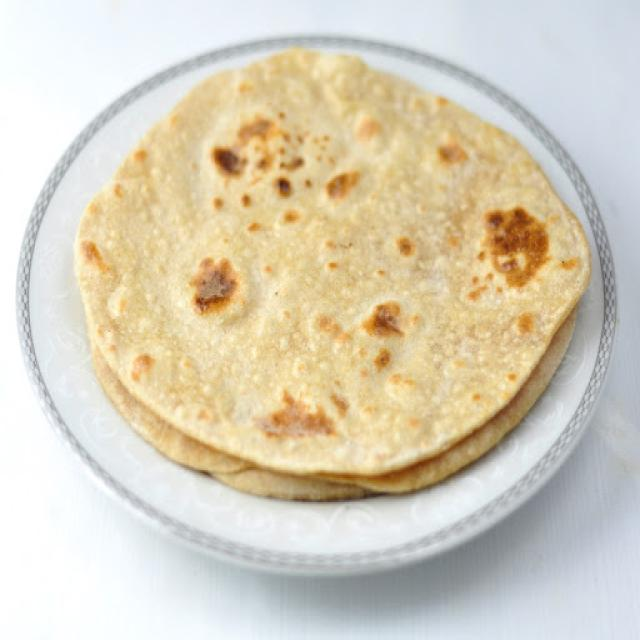ROTI: (75, 50, 580, 478)
